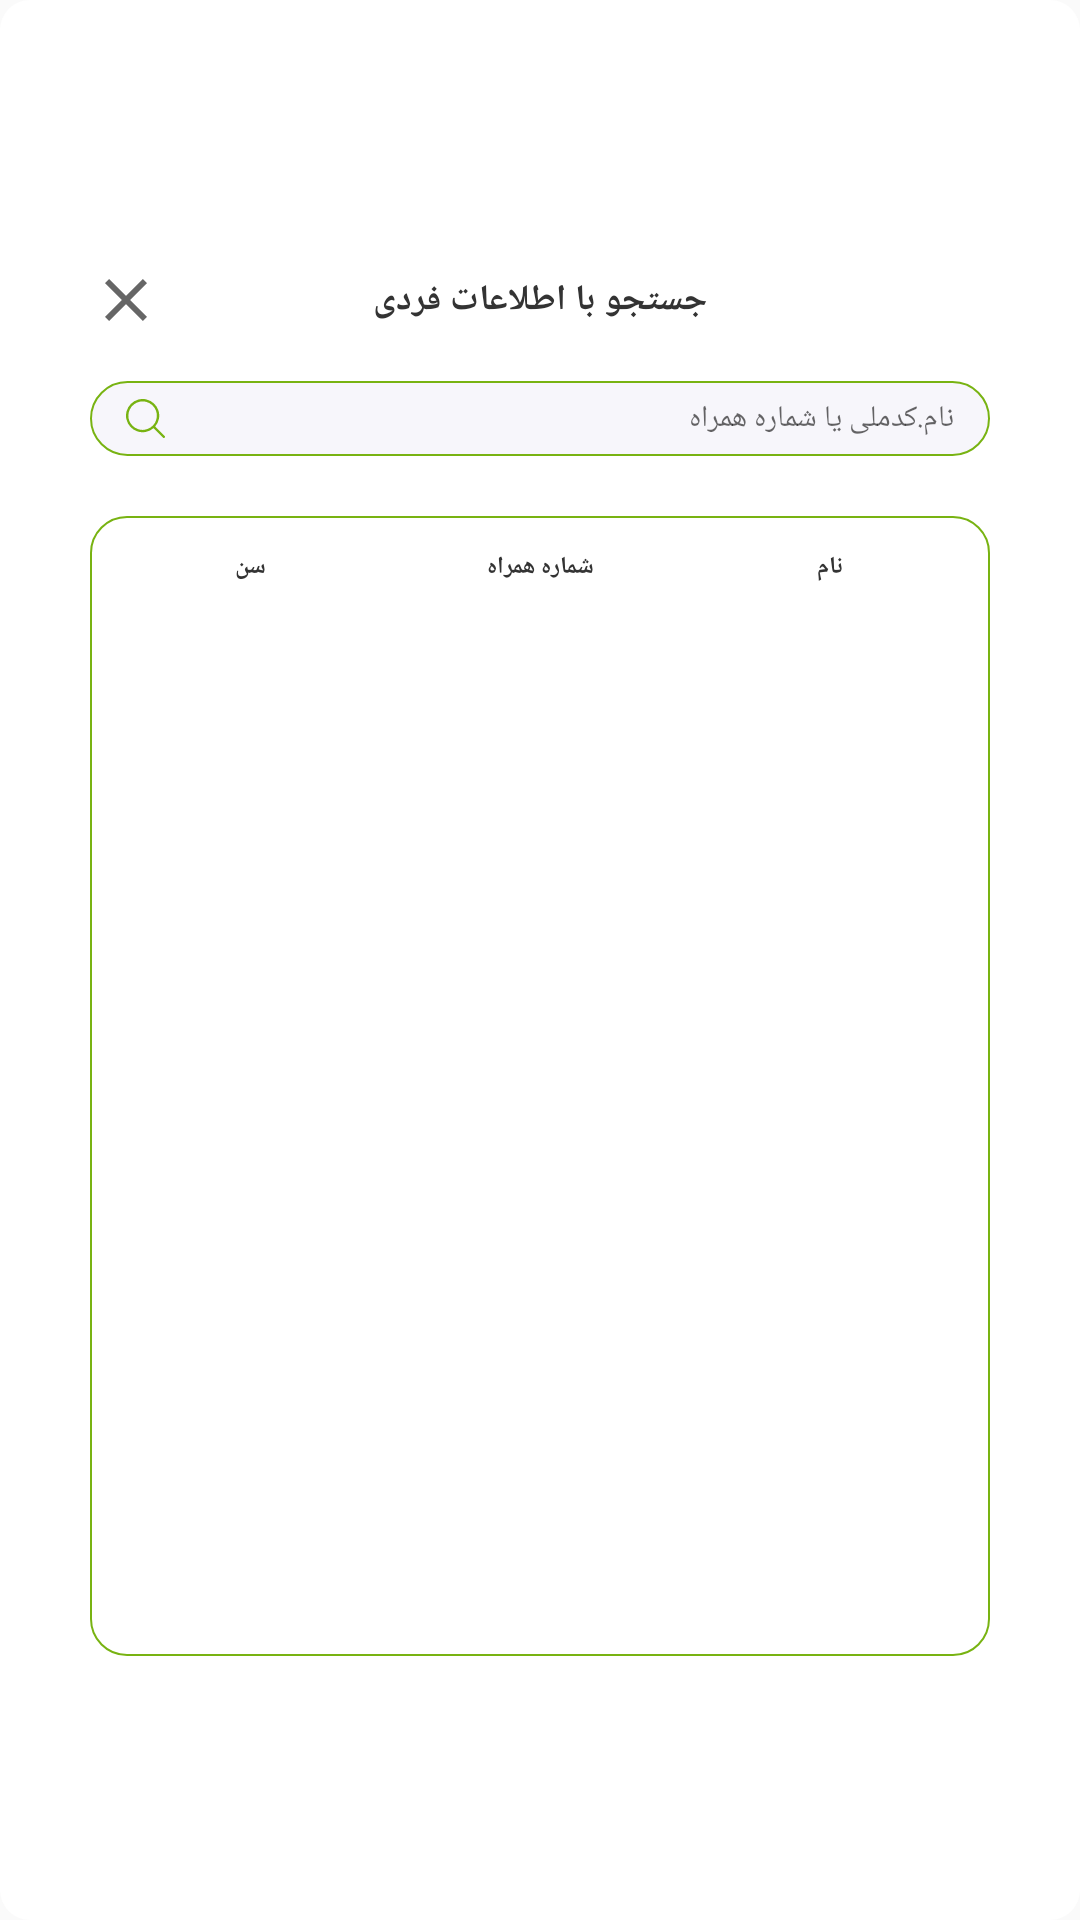

Where icons sit on this 1080px×1920px app screen, as BBox(x1, y1, x2, y2):
cross: BBox(105, 279, 147, 321)
